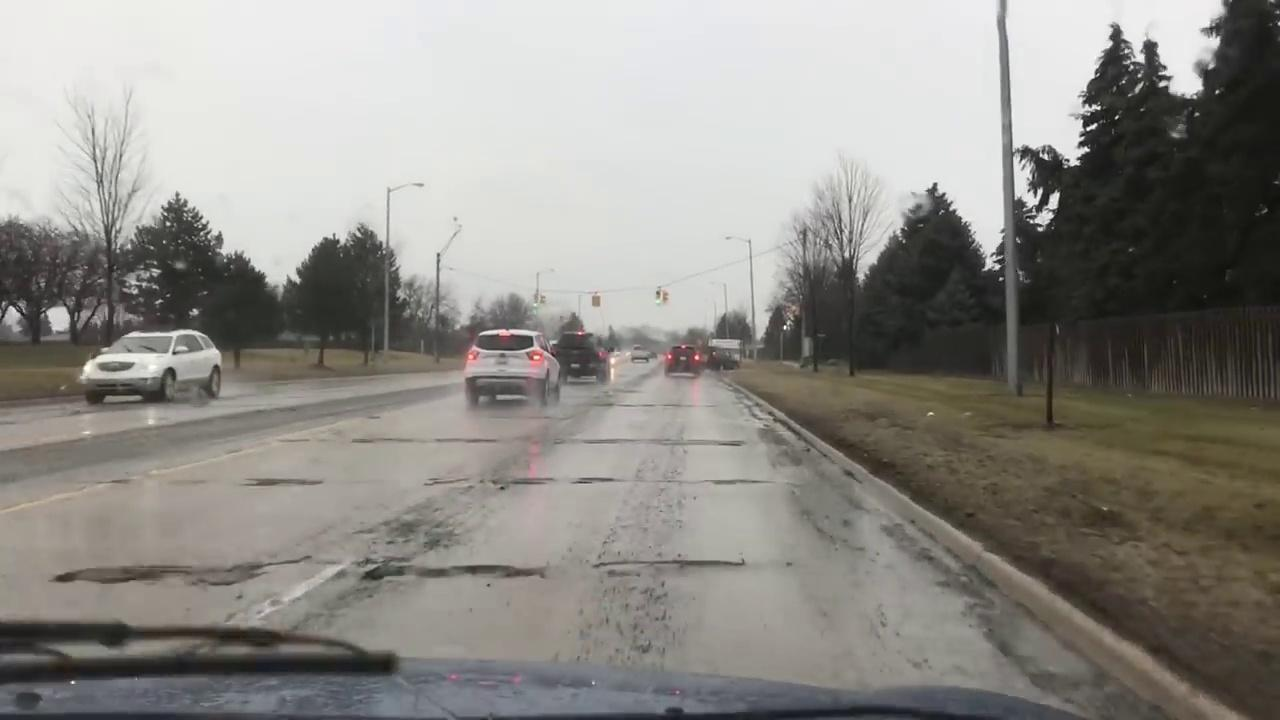pothole: (53, 560, 301, 585), (360, 562, 544, 580), (593, 558, 745, 568), (561, 438, 744, 446), (680, 478, 772, 485), (246, 477, 326, 485), (352, 437, 422, 443), (572, 476, 616, 484), (434, 438, 499, 443), (509, 477, 554, 484)
